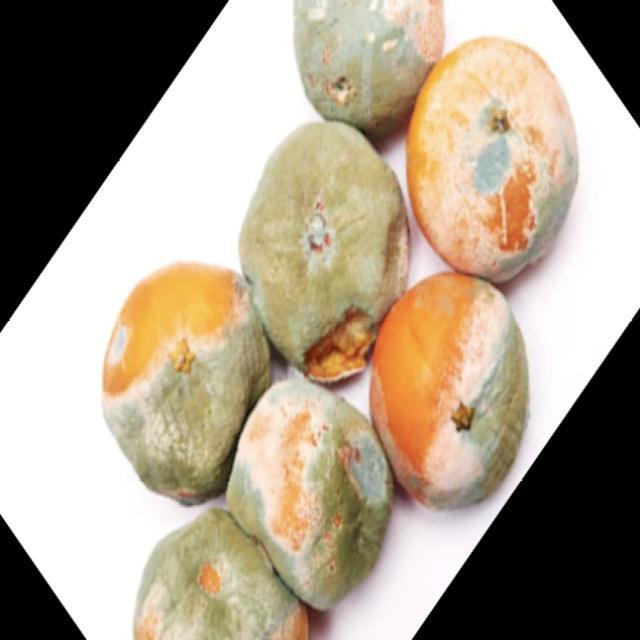sangat-busuk: (240, 122, 408, 379), (103, 263, 270, 503), (226, 380, 391, 609), (370, 273, 528, 508), (134, 508, 308, 639), (294, 0, 442, 139)
sedikit-busuk: (407, 37, 577, 283)
